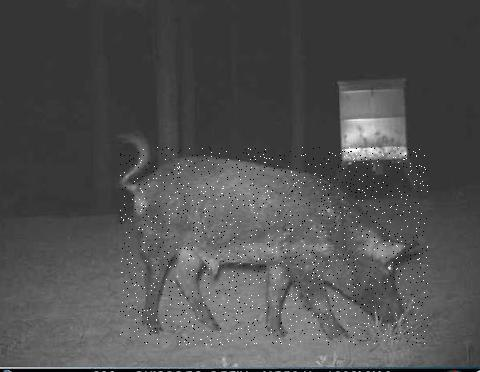Hog: (120, 147, 428, 345)
